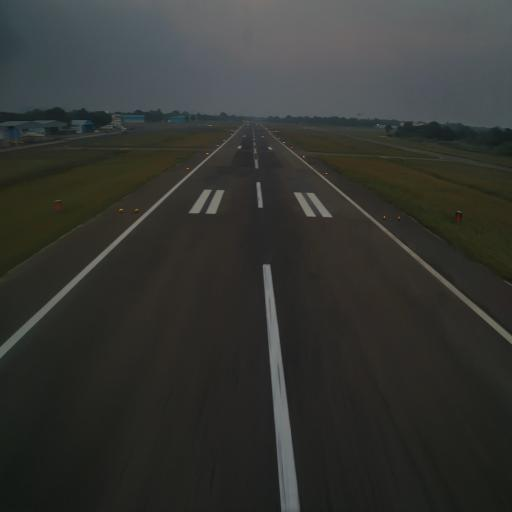on: (382, 213, 387, 221), (133, 206, 138, 213), (118, 206, 122, 214), (186, 165, 190, 172), (397, 214, 400, 221), (325, 170, 328, 176)
